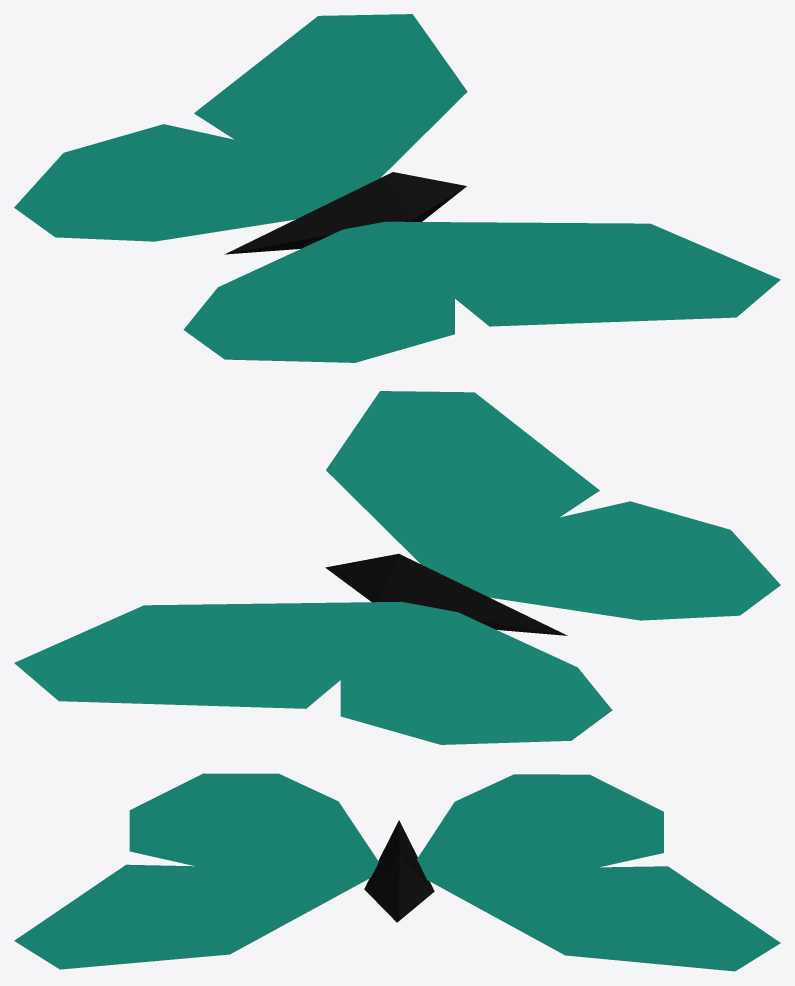
The model's file is butterfly.obj.
The picture shows the model from 3 angles, top to bottom: view 1: azimuth 30°, elevation 25°; view 2: azimuth 150°, elevation 25°; view 3: azimuth 270°, elevation 25°; orthographic projection. The views are drawn at different scales.
Bounding box in the file's own units: 0.8449 × 0.1171 × 1.27.
